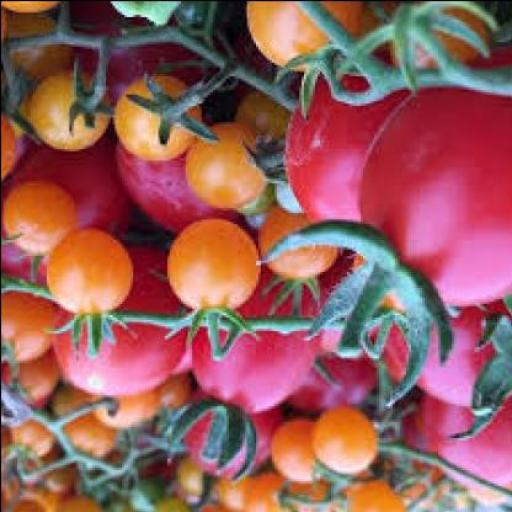biodegradable: (1, 1, 511, 511), (355, 59, 510, 314), (164, 266, 321, 480), (280, 68, 417, 234), (46, 243, 184, 401), (64, 3, 224, 107), (0, 166, 126, 292), (371, 300, 510, 412), (111, 145, 242, 239), (40, 230, 136, 355), (161, 221, 260, 341), (251, 205, 339, 318), (244, 3, 375, 75), (110, 72, 212, 164), (414, 400, 510, 486), (369, 2, 500, 64), (314, 253, 386, 357), (186, 400, 278, 476), (187, 127, 268, 211), (25, 71, 104, 152), (2, 13, 72, 101), (2, 180, 72, 260), (227, 91, 296, 169), (282, 359, 375, 416), (312, 412, 371, 483), (269, 424, 325, 488), (376, 418, 425, 482), (1, 296, 48, 362), (86, 389, 155, 431), (16, 453, 73, 501), (58, 418, 112, 466), (2, 360, 55, 408), (237, 180, 280, 238), (1, 420, 48, 469), (398, 466, 446, 511), (236, 475, 287, 511), (286, 480, 344, 511), (450, 482, 510, 510), (264, 180, 310, 214), (343, 486, 405, 511), (152, 374, 186, 416), (1, 1, 64, 21), (132, 473, 164, 508), (212, 480, 245, 511), (173, 464, 200, 501), (46, 494, 104, 510), (1, 102, 11, 182), (0, 498, 52, 511), (148, 496, 190, 511), (196, 502, 241, 511)
